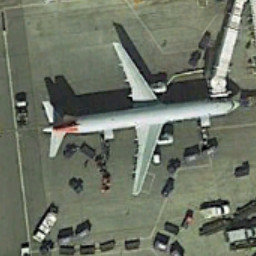Airplane: (29, 33, 244, 205)
